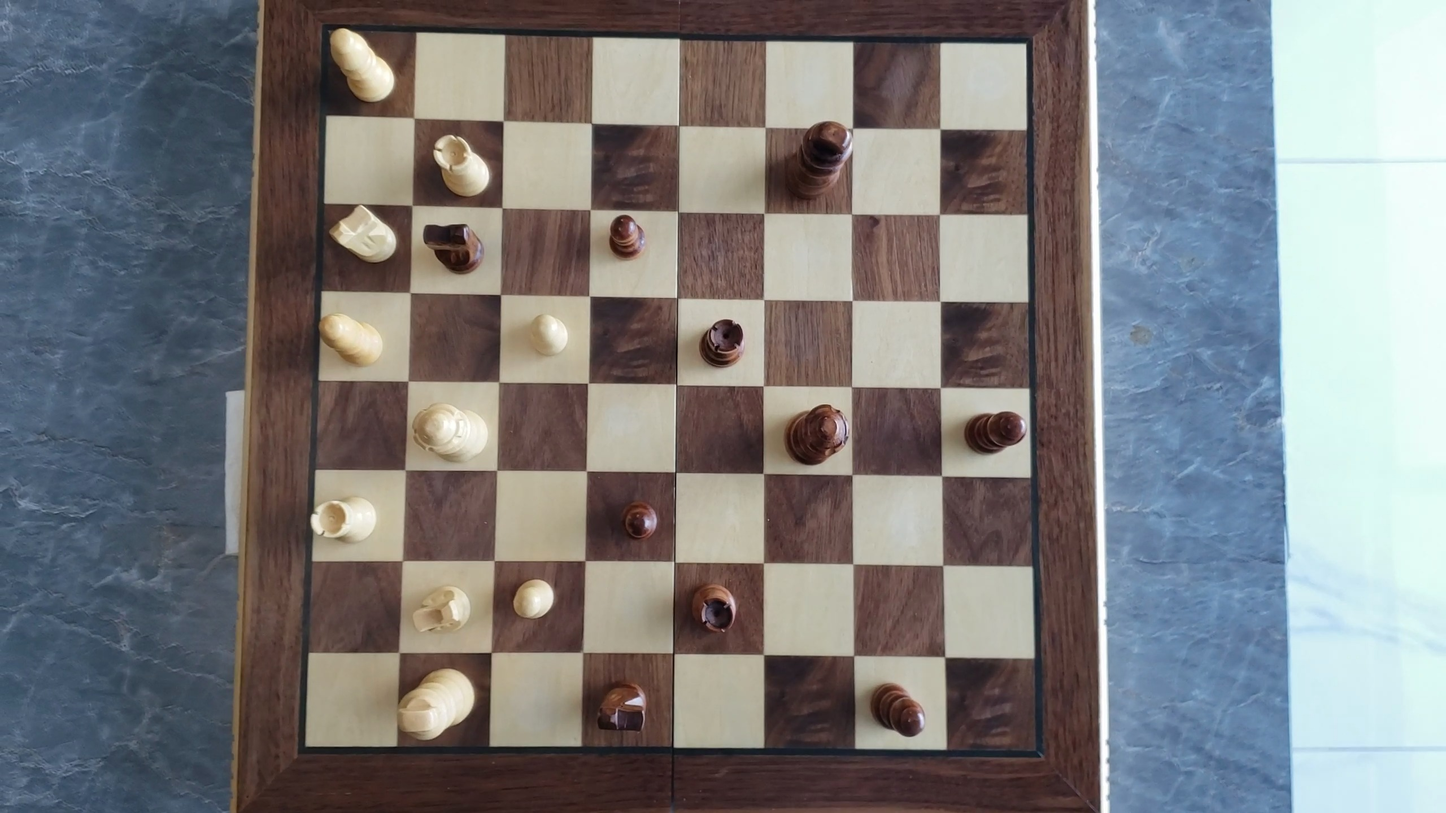black-bishop: (868, 678, 929, 738), (964, 406, 1026, 453)
black-king: (770, 119, 853, 217)
black-knight: (581, 668, 671, 740), (422, 220, 485, 274)
black-pawn: (606, 210, 647, 261), (619, 496, 661, 541)
black-queen: (777, 395, 851, 483)
black-rook: (681, 574, 740, 648), (692, 305, 749, 374)
white-bishop: (306, 303, 401, 390), (321, 26, 410, 115)
white-king: (384, 665, 493, 742)
white-knight: (401, 578, 486, 645), (329, 202, 400, 266)
white-pawn: (525, 309, 573, 360), (509, 575, 559, 622)
white-queen: (402, 395, 511, 469)
white-rook: (430, 130, 493, 201), (311, 489, 384, 545)
